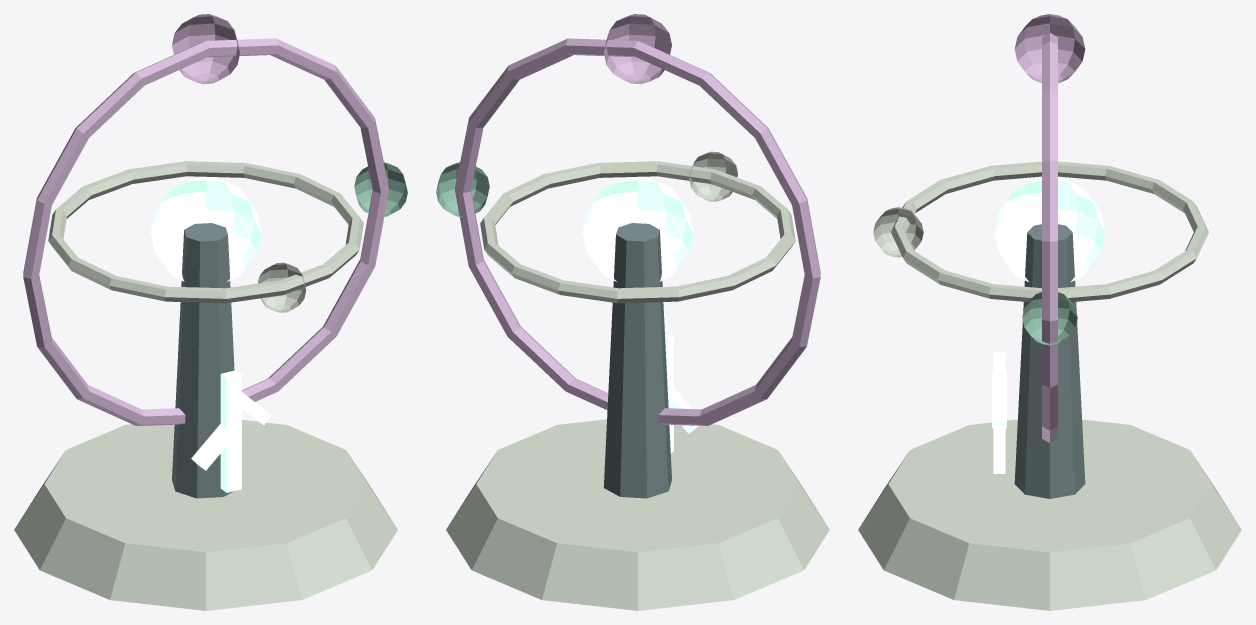
Rendered from runestone-conservatory-botanical-orrery__114.glb.
3 renders of one model, left to right at view 1: azimuth 30°, elevation 25°; view 2: azimuth 150°, elevation 25°; view 3: azimuth 270°, elevation 25°, orthographic.
Visible parts, largest first — view 1: runestone-conservatory-botanical-orrery; view 2: runestone-conservatory-botanical-orrery; view 3: runestone-conservatory-botanical-orrery.
Part boxes in pixels (x1,y1,x2,y2): runestone-conservatory-botanical-orrery: (14, 14, 407, 610); runestone-conservatory-botanical-orrery: (436, 14, 829, 610); runestone-conservatory-botanical-orrery: (858, 14, 1241, 610).
Bounding box in the file's own units: 0.873 × 1.12 × 0.76.
